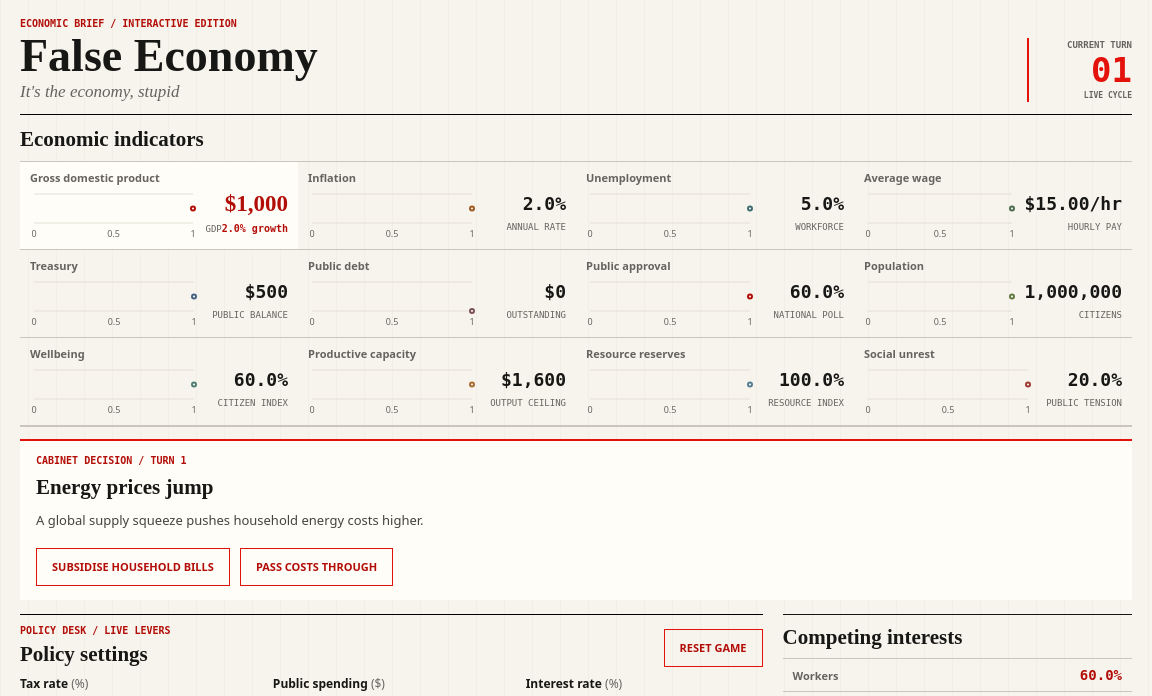
Test: Economy Simulator interface › lets the player resolve a pending energy event
Expected: the heading "Energy prices jump" is shown, 36,475 -> 213,499
Click the button "subsidise household bills" at (133, 567), box 36,548 -> 230,586
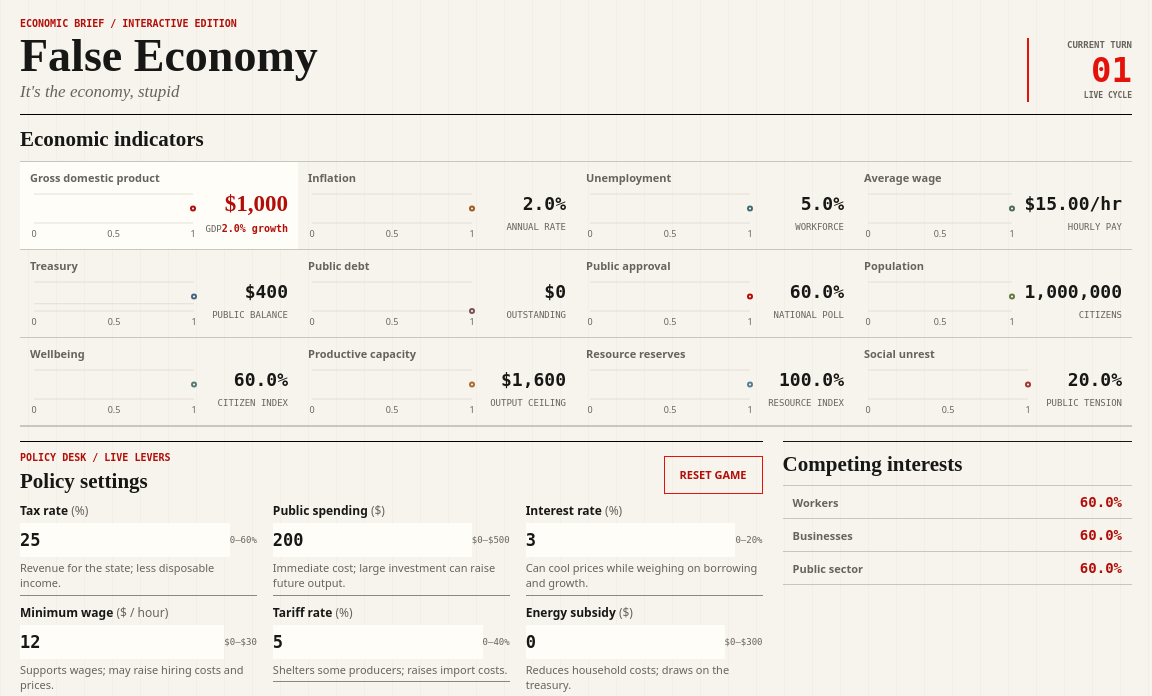
Now the text "$400" is shown, box 245,281 -> 288,302
